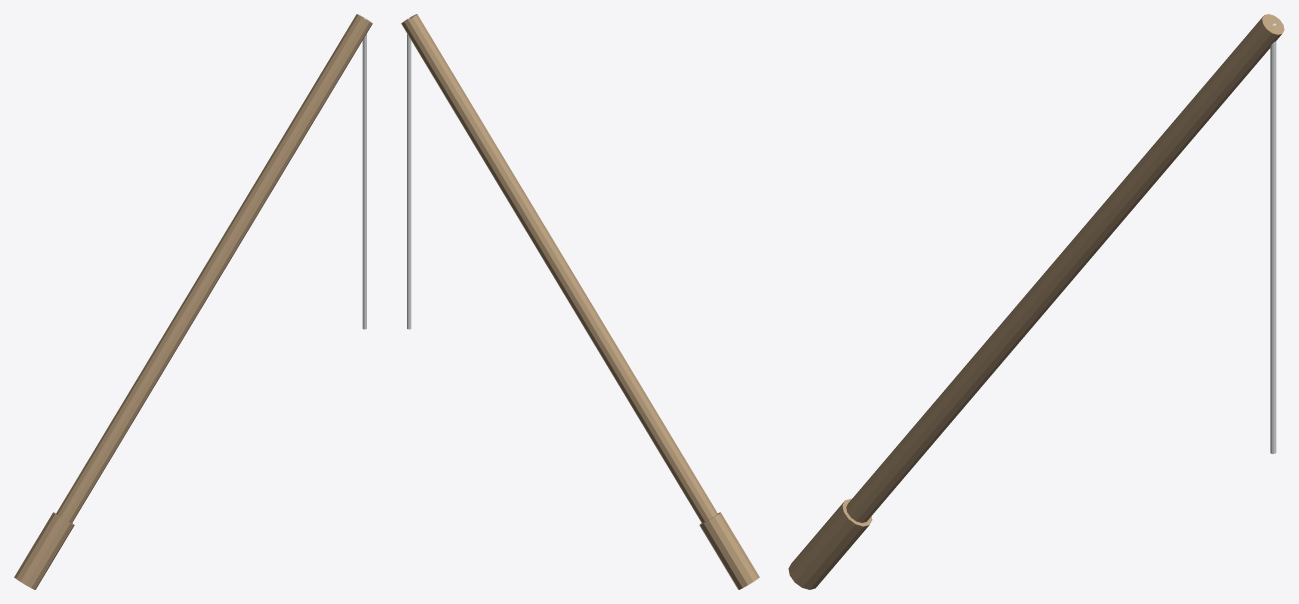
File: toReplace_fishing_rod_stick.glb
3 views of the same model, side by side, from view 1: azimuth 30°, elevation 25°; view 2: azimuth 150°, elevation 25°; view 3: azimuth 330°, elevation 25° (orthographic). The views are drawn at different scales.
Visible parts, largest first — view 1: Stick, Grip, Line; view 2: Stick, Grip, Line; view 3: Stick, Grip, Line.
Part boxes in pixels (x1=…): Stick: x1=56, y1=14, x2=372, y2=523; Grip: x1=14, y1=512, x2=74, y2=589; Line: x1=362, y1=18, x2=366, y2=329; Stick: x1=401, y1=14, x2=717, y2=523; Grip: x1=699, y1=512, x2=759, y2=589; Line: x1=407, y1=18, x2=411, y2=329; Stick: x1=846, y1=14, x2=1284, y2=522; Grip: x1=788, y1=498, x2=872, y2=589; Line: x1=1270, y1=23, x2=1276, y2=453.
Size of the model in its own units: 0.6482 by 0.8608 by 0.04.
